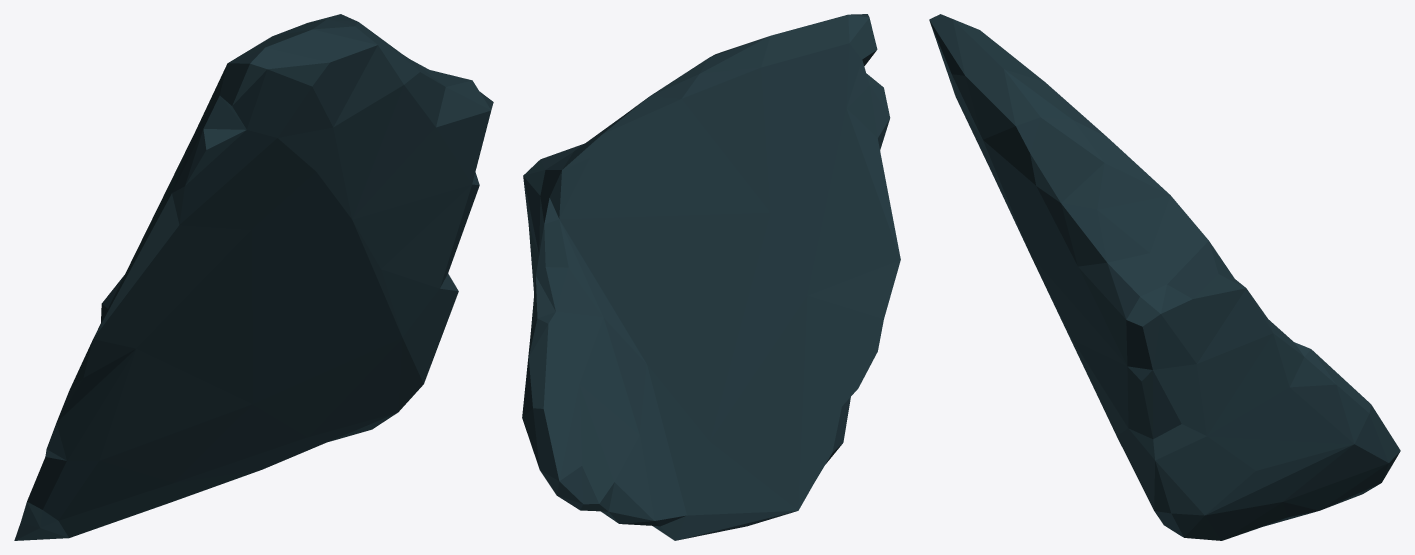
The model's file is RockA.obj.
The picture shows the model from 3 angles, left to right: view 1: azimuth 30°, elevation 25°; view 2: azimuth 150°, elevation 25°; view 3: azimuth 270°, elevation 25°; orthographic projection. The views are drawn at different scales.
Parts seen in each view (by area): view 1: Rock_098_Geo6 Rocks_Scatter_2; view 2: Rock_098_Geo6 Rocks_Scatter_2; view 3: Rock_098_Geo6 Rocks_Scatter_2.
Part boxes in pixels (x1,y1,x2,y2): Rock_098_Geo6 Rocks_Scatter_2: (14, 14, 493, 540); Rock_098_Geo6 Rocks_Scatter_2: (522, 14, 900, 540); Rock_098_Geo6 Rocks_Scatter_2: (929, 14, 1400, 540).
Bounding box in the file's own units: 0.4105 × 0.5116 × 0.46.
